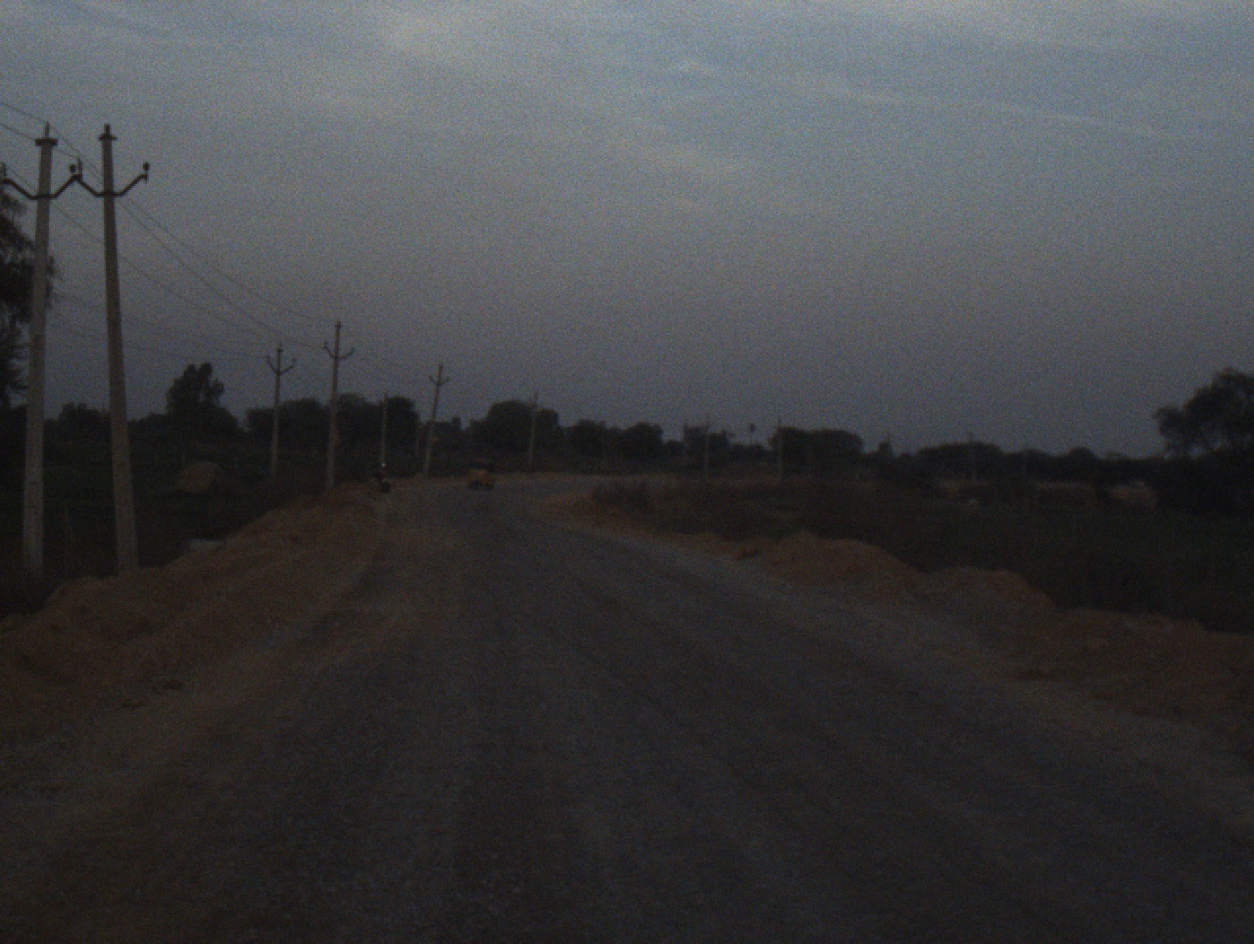autorickshaw: (467, 454, 499, 496)
motorcycle: (372, 459, 394, 490)
